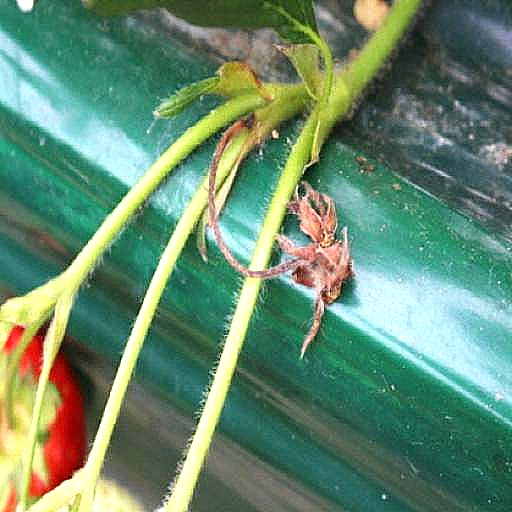Gray Mold: (159, 181, 262, 362)
